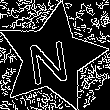N_N: (28, 30, 76, 85)
